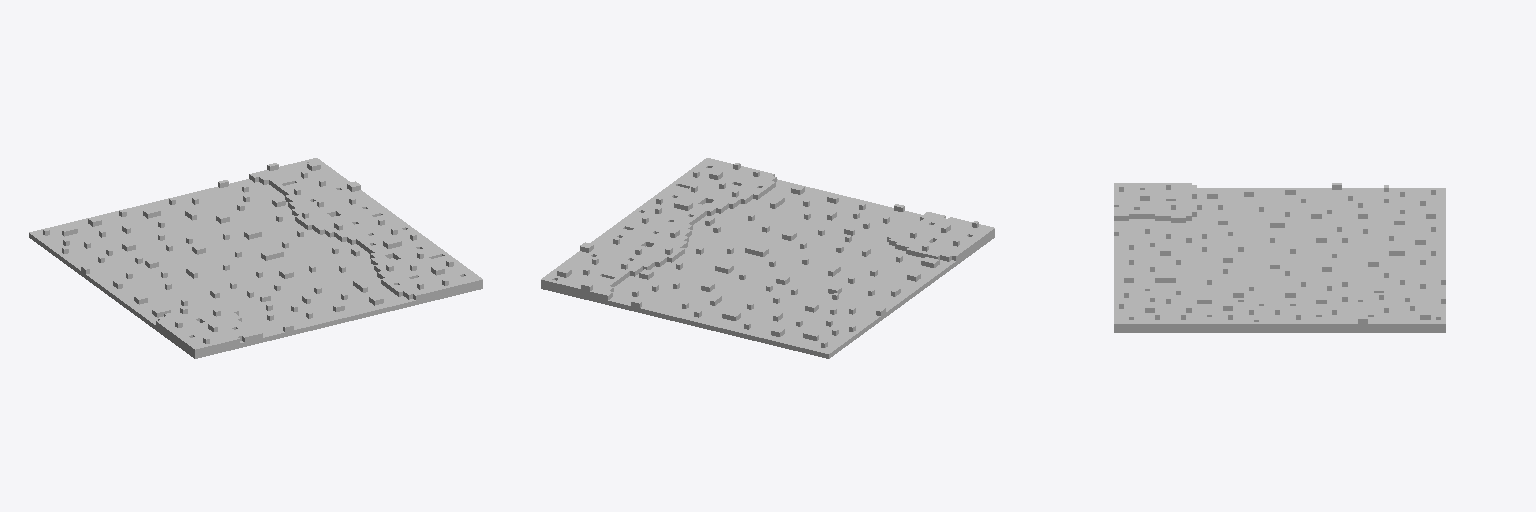
Rendered from EarthenPath3Fork_3.obj.
3 renders of one model, left to right at view 1: azimuth 30°, elevation 25°; view 2: azimuth 150°, elevation 25°; view 3: azimuth 270°, elevation 25°, orthographic.
Visible parts, largest first — view 1: EarthenPath3Fork_3.001; view 2: EarthenPath3Fork_3.001; view 3: EarthenPath3Fork_3.001.
Boxes of the visible parts, box(x1,y1,x2,y2) form: EarthenPath3Fork_3.001: box(29, 158, 482, 358); EarthenPath3Fork_3.001: box(541, 158, 994, 358); EarthenPath3Fork_3.001: box(1114, 183, 1445, 332).
Size of the model in its own units: 1 by 0.0469 by 1.